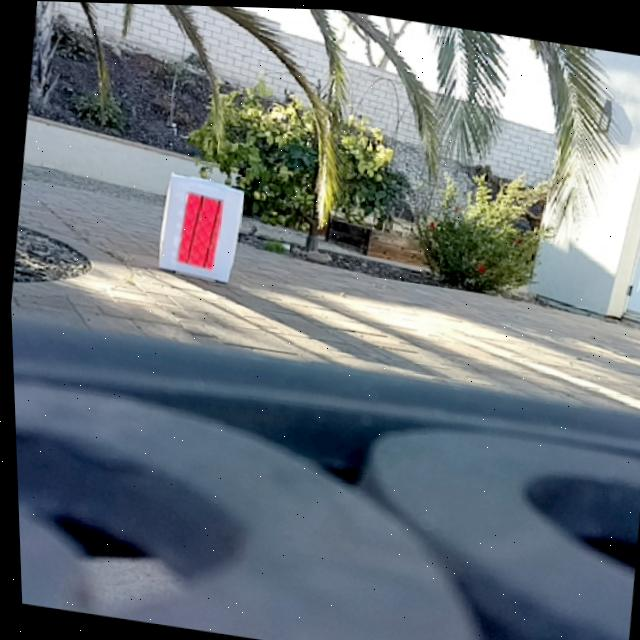led: (173, 189, 222, 269)
